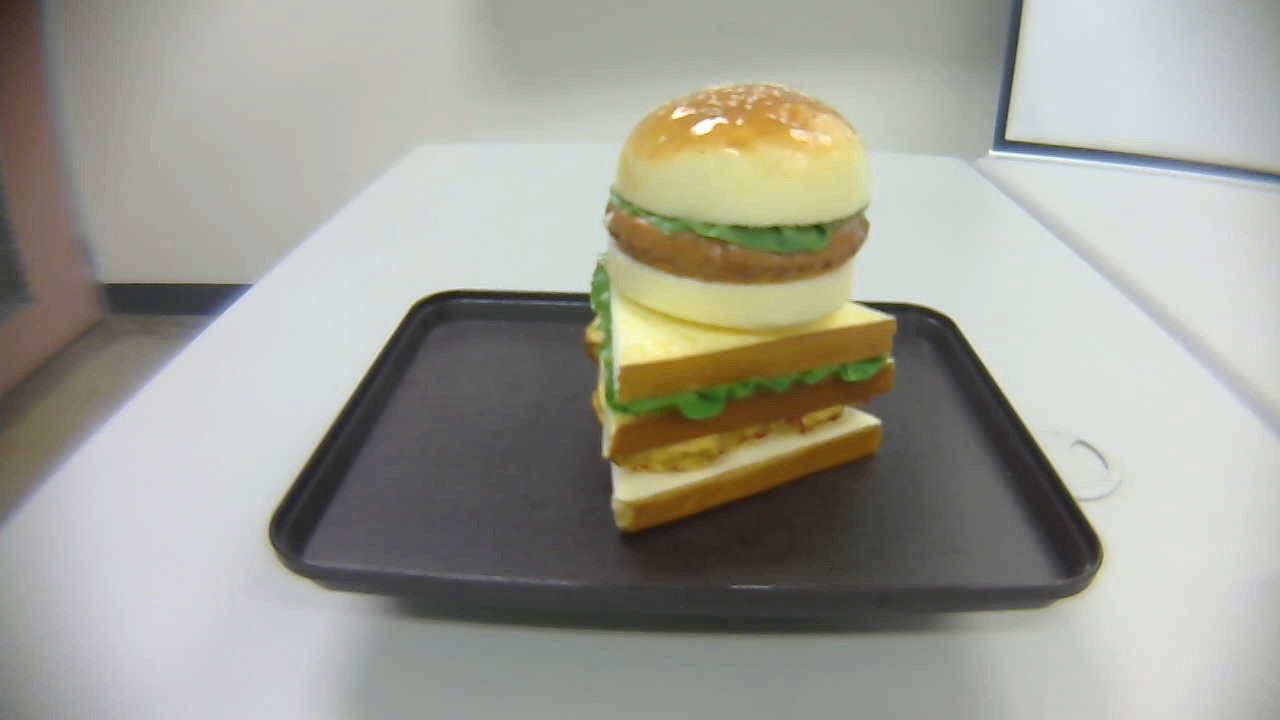hamburger: (604, 83, 870, 335)
sandwich: (587, 249, 896, 537)
